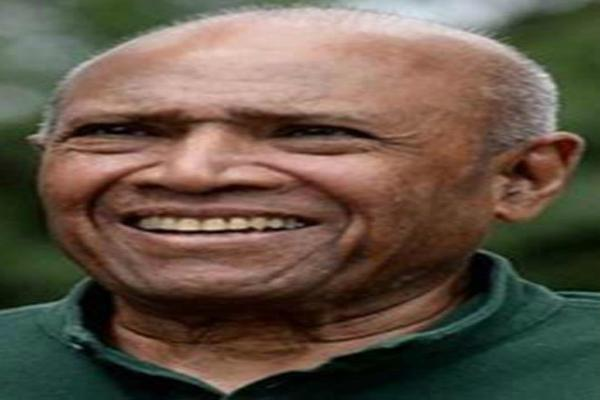Indian: (48, 68, 444, 297)
